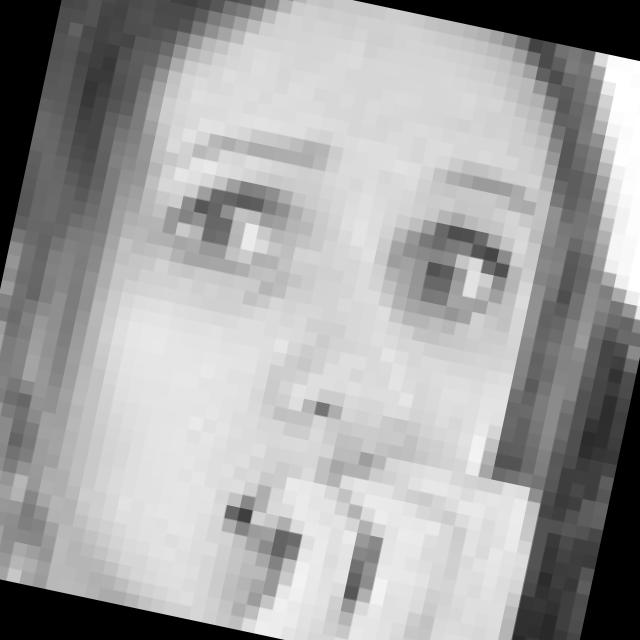fear: (74, 101, 541, 640)
